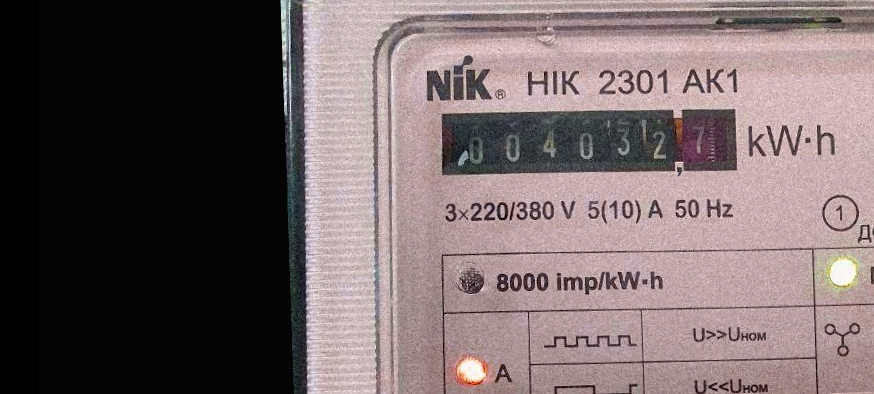0: (502, 130, 523, 163), (466, 131, 486, 165), (576, 127, 596, 161)
2: (650, 126, 669, 161)
3: (614, 124, 633, 157)
4: (539, 126, 560, 162)
7: (691, 122, 709, 155)
screen: (430, 94, 747, 192)
